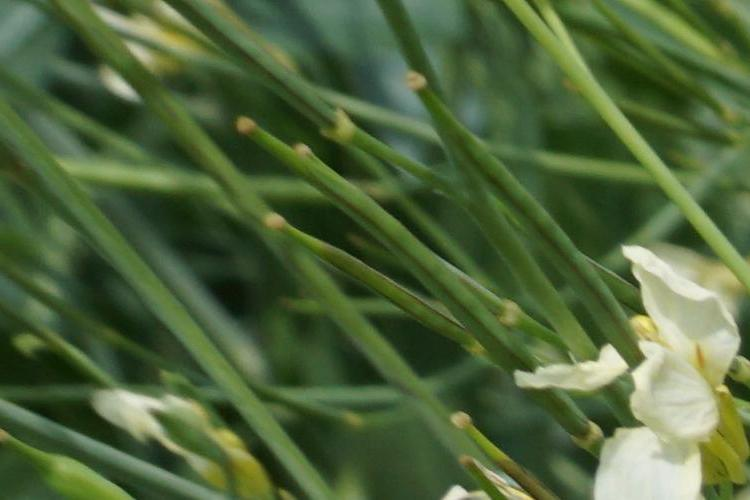pod: (255, 195, 515, 309), (407, 74, 565, 249), (234, 101, 424, 215), (436, 365, 612, 488)
white: (539, 256, 731, 473)
